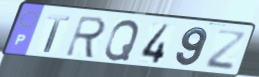4: (138, 22, 171, 66)
9: (173, 25, 209, 68)
Q: (103, 18, 142, 62)
R: (63, 14, 109, 60)
T: (43, 13, 72, 54)
Z: (203, 28, 249, 72)
